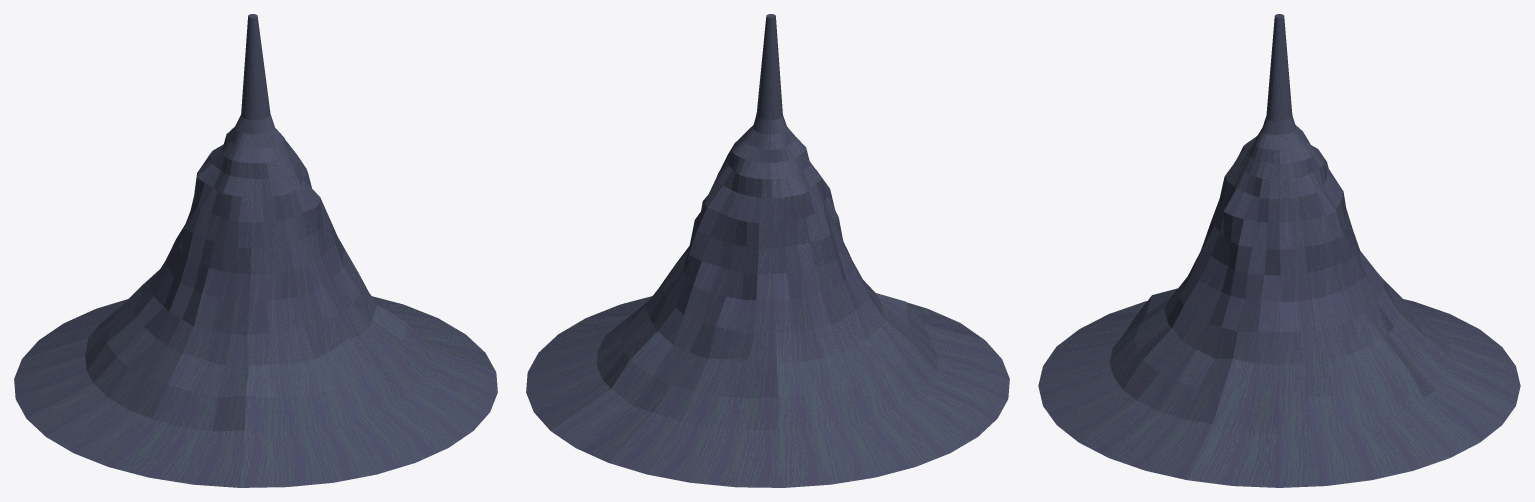
Rendered from Stalagniet.fbx.
3 renders of one model, left to right at view 1: azimuth 30°, elevation 25°; view 2: azimuth 150°, elevation 25°; view 3: azimuth 270°, elevation 25°, orthographic.
Visible parts, largest first — view 1: Cylinder; view 2: Cylinder; view 3: Cylinder.
Part boxes in pixels (bbox=[...]): Cylinder: bbox=[14, 14, 497, 487]; Cylinder: bbox=[526, 14, 1009, 487]; Cylinder: bbox=[1038, 14, 1520, 487].
Bounding box in the file's own units: 414 × 349 × 414.
